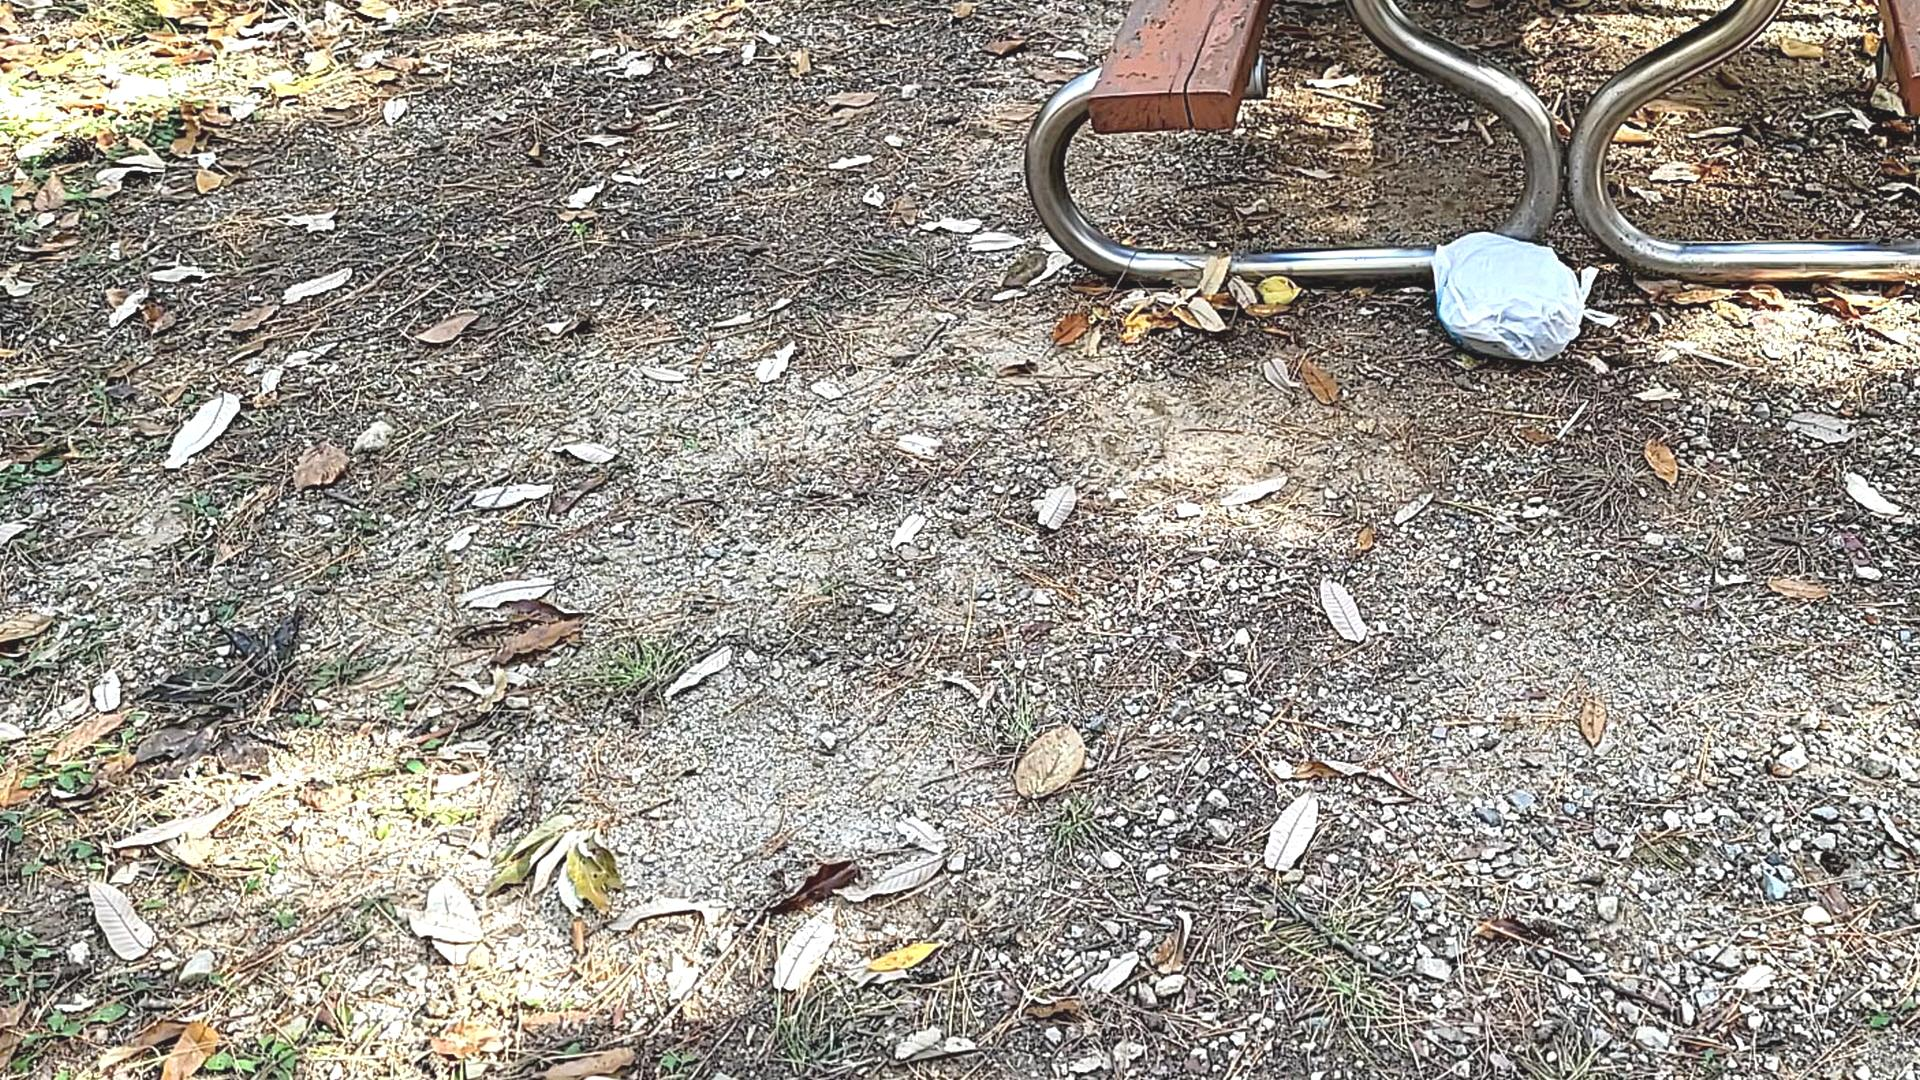white_bag: (1418, 224, 1602, 367)
